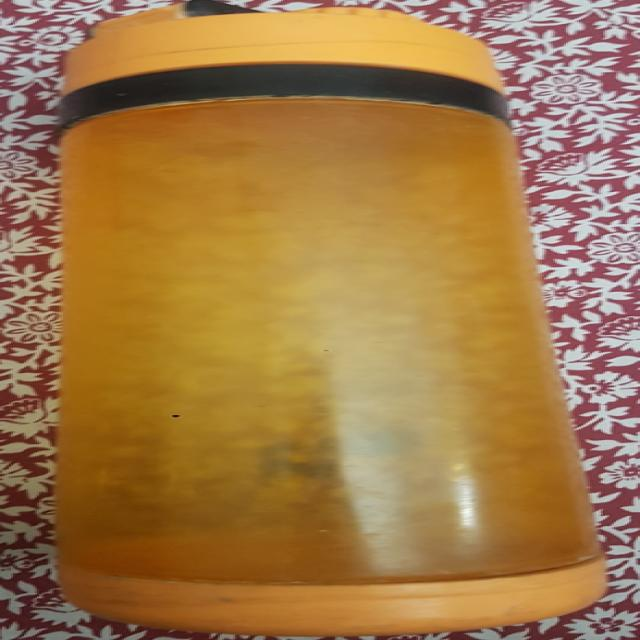general: (48, 1, 607, 636)
